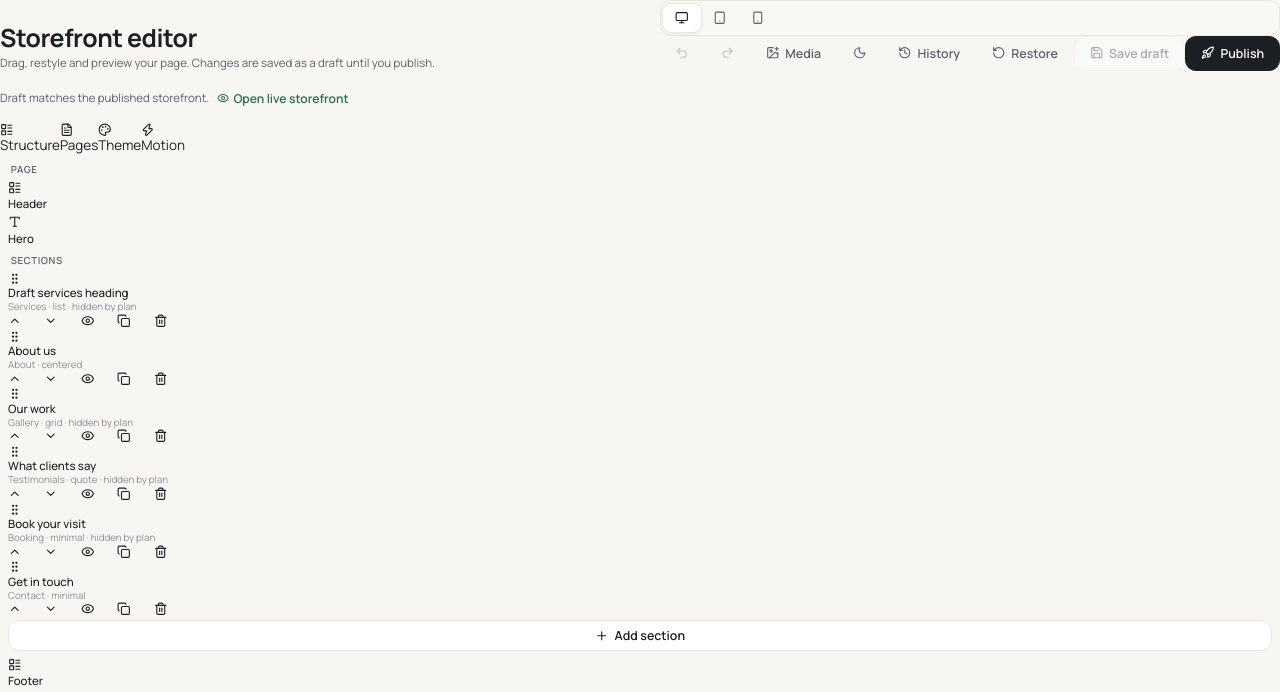
builder version history › leaves the draft and the editor alone when a restore is refused
Expected: the text "Draft services heading" is shown, [8,285,128,300]
Click the button with test id "builder-history" at (929, 53), box [882,36,976,71]
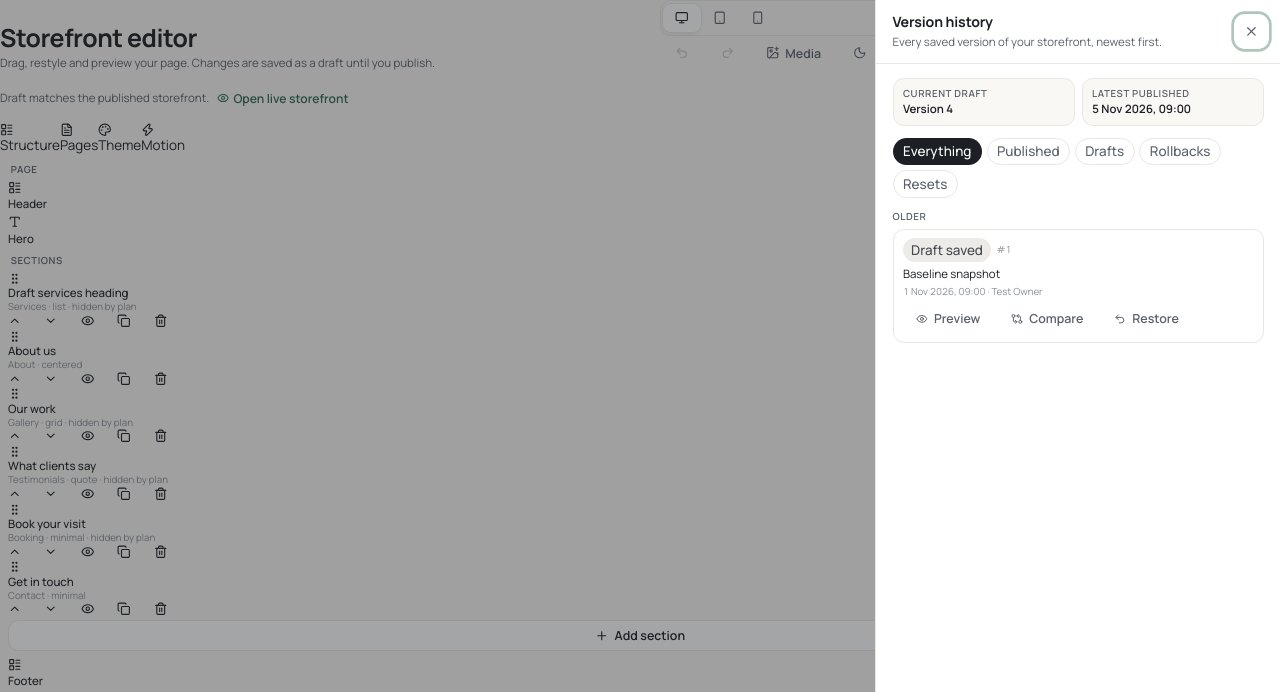
Expected: the text "#1" is shown, [996,244,1011,256]
Click the button "Restore" at (1147, 318), box [1101,303,1192,334]
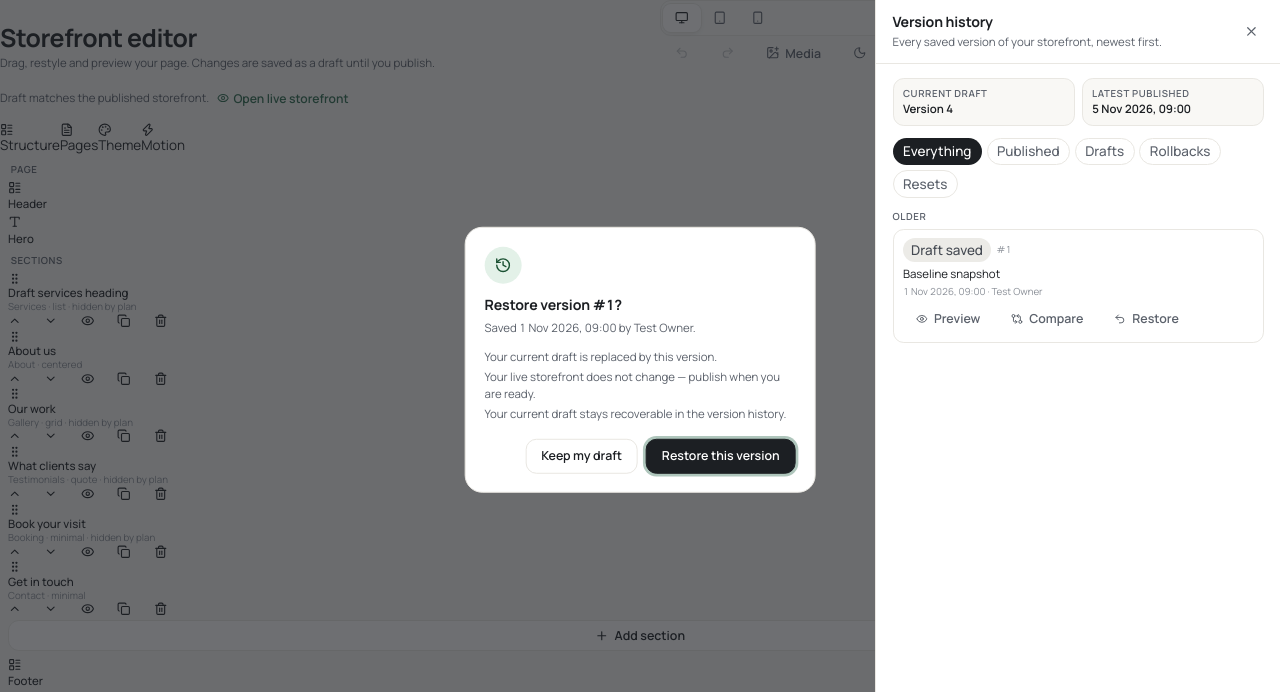
Click the button "Restore this version" at (721, 456), box [646,438,796,473]
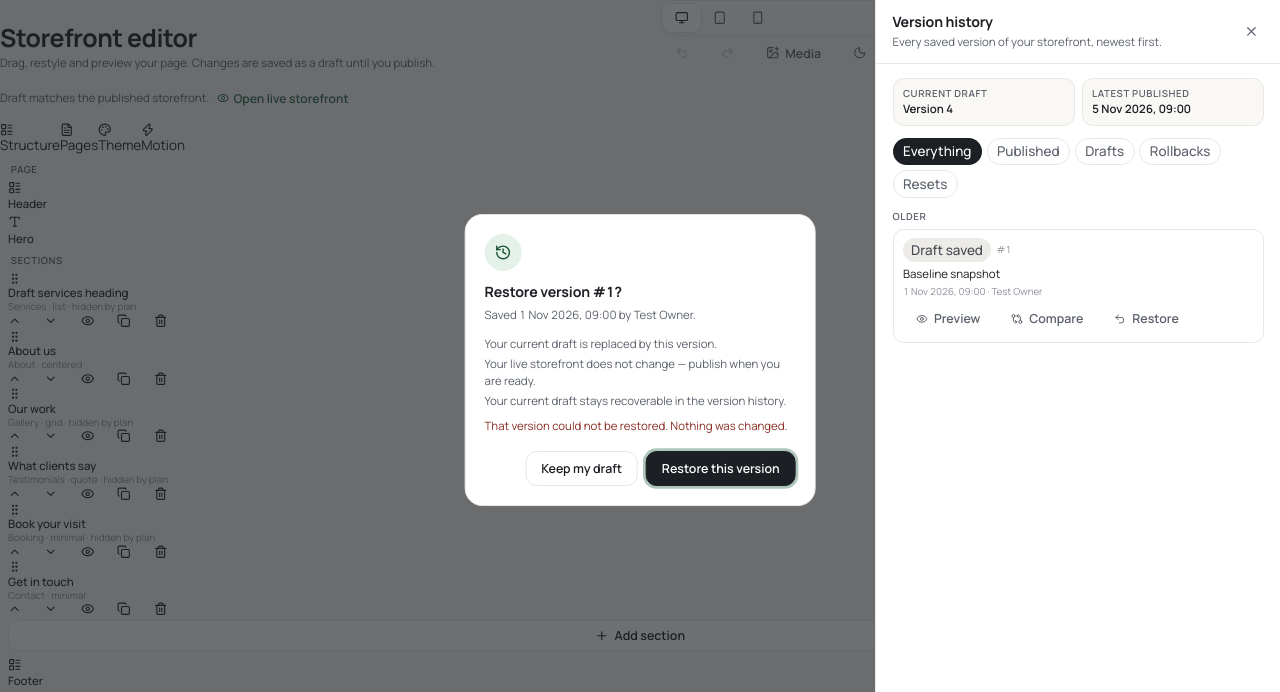
Expected: the text "Draft services heading" is shown, [8,285,128,300]
Expected: the dialog "Restore version #1?" shows "That version could not be restored. Nothing was changed.", [484,418,788,433]
